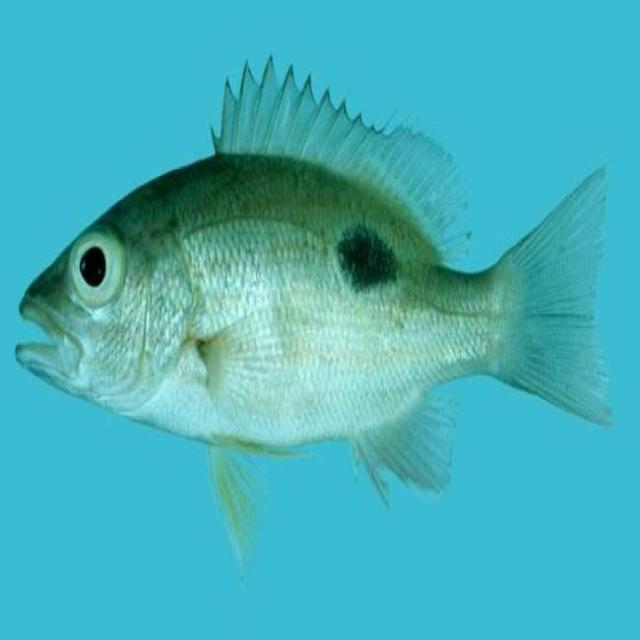ikan: (14, 52, 613, 583)
